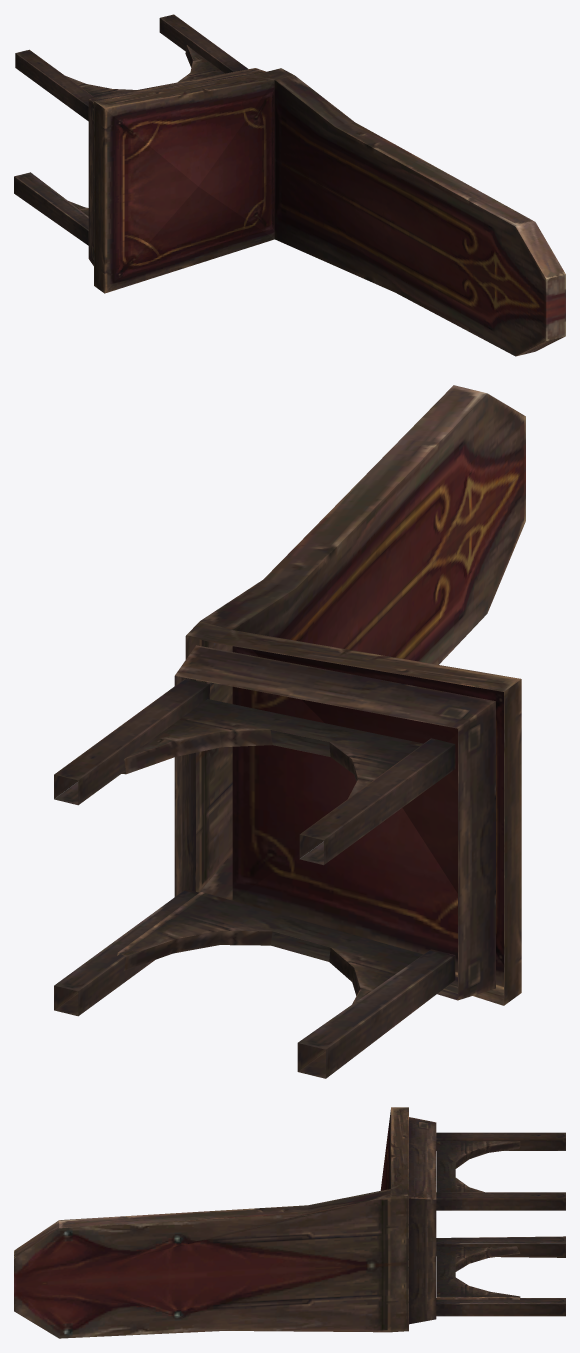
The model's file is tanxian_fuben_257_canting_02b.obj.
3 views of the same model, one above another, from view 1: azimuth 30°, elevation 25°; view 2: azimuth 150°, elevation 25°; view 3: azimuth 270°, elevation 25° (orthographic). The views are drawn at different scales.
Parts seen in each view (by area): view 1: tanxian_fuben_257_canting_02b; view 2: tanxian_fuben_257_canting_02b; view 3: tanxian_fuben_257_canting_02b.
Part boxes in pixels (x1=…): tanxian_fuben_257_canting_02b: x1=14, y1=14, x2=565, y2=356; tanxian_fuben_257_canting_02b: x1=54, y1=385, x2=525, y2=1078; tanxian_fuben_257_canting_02b: x1=14, y1=1107, x2=565, y2=1338.
Bounding box in the file's own units: 32.37 × 23.88 × 76.1.
1 material, 1 textured.
